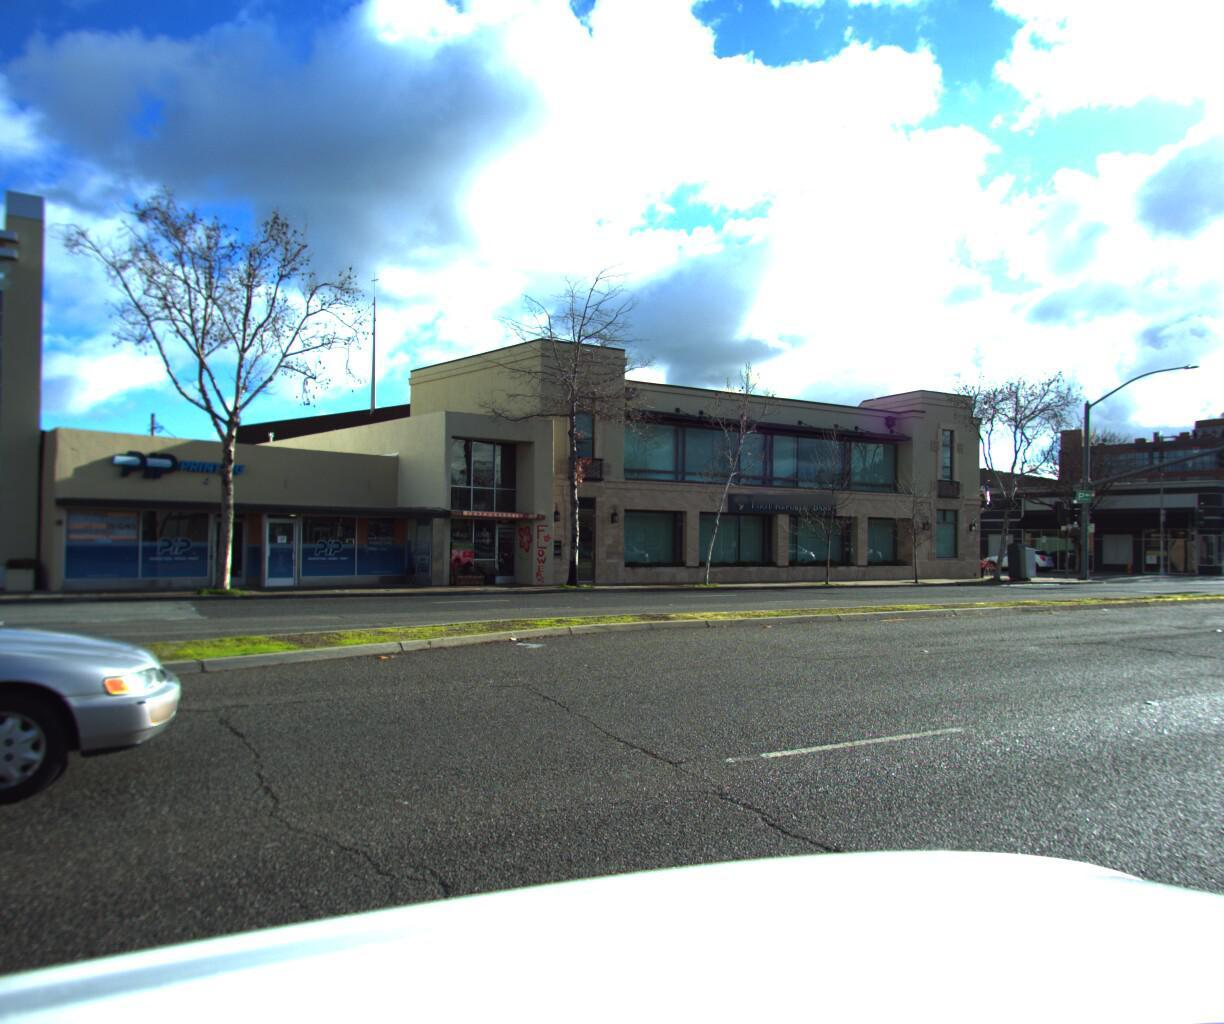car: (0, 531, 228, 963), (975, 540, 1054, 569)
